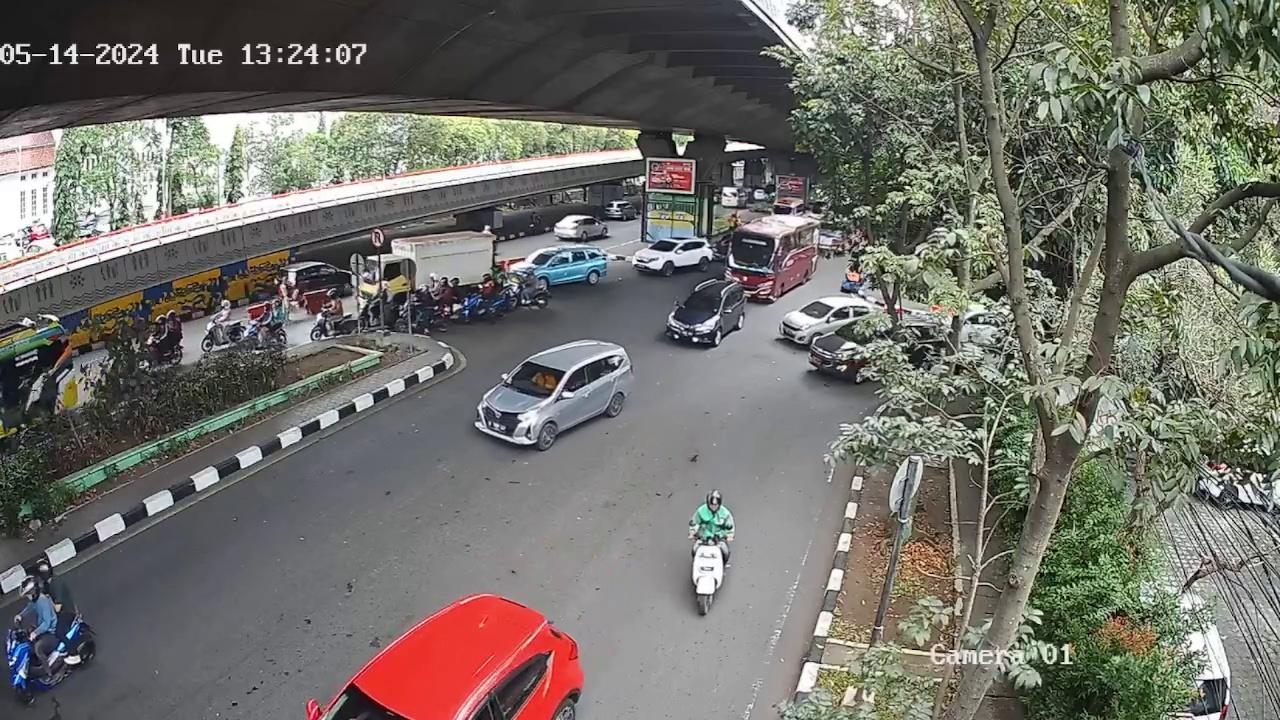pakai: (530, 371, 556, 391)
windshield: (508, 357, 563, 399)
